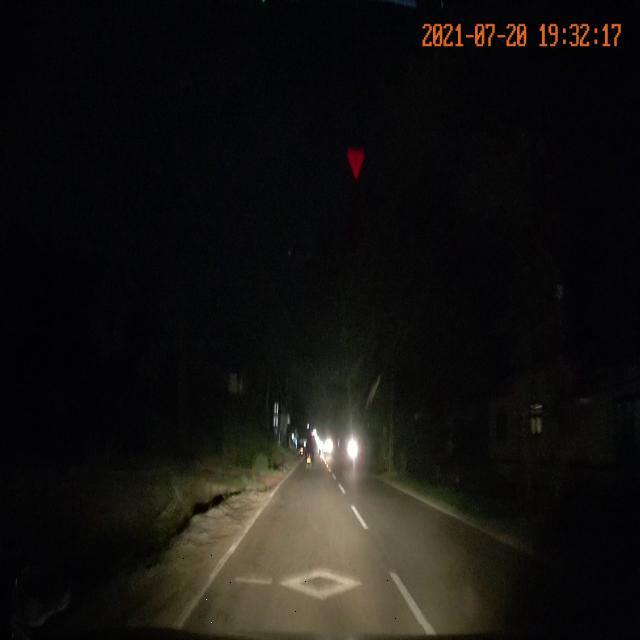diamond: (184, 556, 430, 624)
